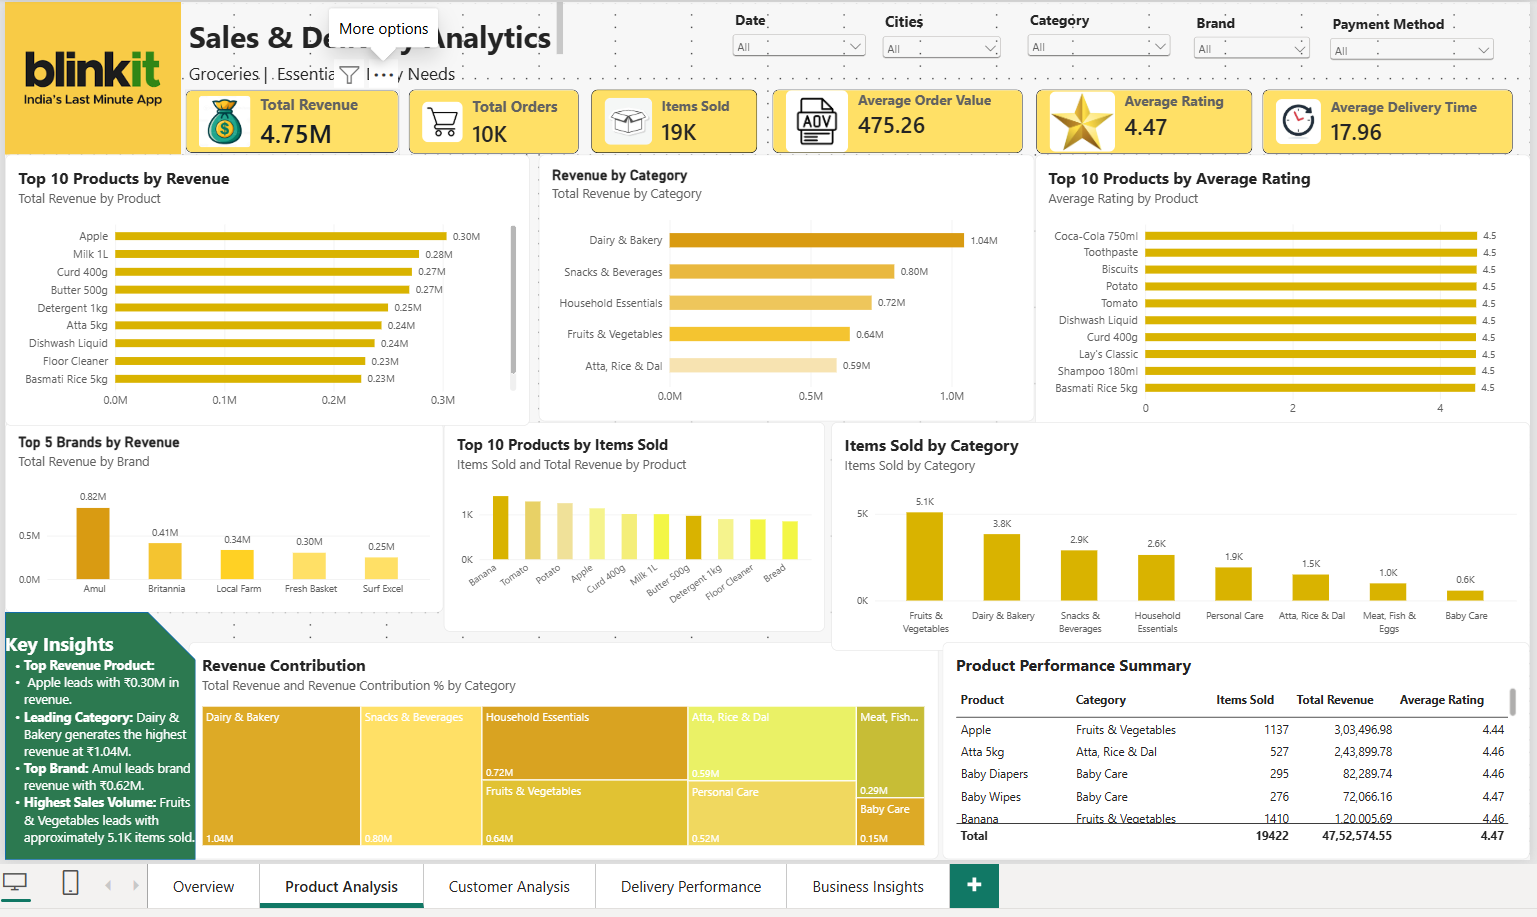

The dashboard page shown, as its layout file describes it:
{"tool":"powerbi","page":{"name":"Product Analysis","canvas":[1920,1080],"ordinal":1},"visuals":[{"type":"image","box":[0,0,221.7,192.1],"z":0},{"type":"textbox","box":[232.1,0,471.5,75.4],"z":4},{"type":"textbox","box":[372,192,804,138],"z":5},{"type":"textbox","box":[372,330,804,74],"z":6},{"type":"textbox","box":[232.1,75.4,818.8,35.5],"z":7},{"type":"slicer","fields":{"Values":["Calendar1.Date"]},"box":[910.5,10.5,177.4,69.4],"z":8},{"type":"slicer","fields":{"Values":["Cities.City"]},"box":[1100.6,10.5,158.7,68],"z":9},{"type":"slicer","fields":{"Values":["Orders.Category"]},"box":[1282,10.5,190.1,69.8],"z":10},{"type":"slicer","fields":{"Values":["Orders.Brand"]},"box":[1491.3,14,156.5,72.6],"z":11},{"type":"slicer","fields":{"Values":["Orders.Payment Method"]},"box":[1664,15.7,216.3,64.5],"z":12},{"type":"cardVisual","fields":{"Data":["Calendar1.Total Revenue"]},"box":[226.1,110.9,270.5,81.3],"z":13},{"type":"cardVisual","fields":{"Data":["Calendar1.Total Orders"]},"box":[508.5,110.9,214.3,81.3],"z":14},{"type":"cardVisual","fields":{"Data":["Calendar1.Items Sold"]},"box":[737.8,109.9,209.3,80.2],"z":15},{"type":"cardVisual","fields":{"Data":["Calendar1.Average Order Value"]},"box":[966.3,109.9,315.7,80.2],"z":16},{"type":"cardVisual","fields":{"Data":["Calendar1.Average Rating"]},"box":[1297.7,109.9,272.1,82],"z":17},{"type":"cardVisual","fields":{"Data":["Calendar1.Average Delivery Time"]},"box":[1583.7,109.9,315.7,82],"z":18},{"type":"clusteredBarChart","title":"Revenue by Category","fields":{"Category":["Orders.Category"],"Y":["Calendar1.Total Revenue"]},"box":[672,192,624,336],"z":21},{"type":"clusteredColumnChart","title":"Top 5 Brands by Revenue","fields":{"Category":["Orders.Brand"],"Y":["Calendar1.Total Revenue"]},"box":[0,552,552,240],"z":22},{"type":"clusteredColumnChart","title":"Top 10 Products by Items Sold","fields":{"Category":["Orders.Product"],"Y":["Calendar1.Items Sold"]},"box":[552,528,480,264],"z":30},{"type":"treemap","title":"Revenue Contribution","fields":{"Values":["Calendar1.Total Revenue"],"Group":["Orders.Category"]},"box":[232,805.8,943.6,273.8],"z":31},{"type":"clusteredBarChart","title":"Top 10 Products by Revenue","fields":{"Category":["Products.Product"],"Y":["Calendar1.Total Revenue"]},"box":[0,192,661,341.9],"z":34},{"type":"clusteredBarChart","title":"Top 10 Products by Average Rating","fields":{"Category":["Products.Product"],"Y":["Calendar1.Average Rating"]},"box":[1299.4,198.8,620.9,341.9],"z":35},{"type":"clusteredColumnChart","title":"Items Sold by Category","fields":{"Y":["Calendar1.Items Sold"],"Category":["Orders.Category"]},"box":[1032,552,888,264],"z":36},{"type":"tableEx","title":"Product Performance Summary","fields":{"Values":["Orders.Product","Orders.Category","Calendar1.Items Sold","Calendar1.Total Revenue","Calendar1.Average Rating"]},"box":[1180.8,805.8,739.5,273.8],"z":37}]}

Visuals, with their boxes on the page's 1920x1080 design canvas (x1, y1, x2, y2). These are canvas units, not pixel positions in the 1537x917 screenshot, which may show the page scaled, cropped or inside an application window:
image: 0 0 222 192
textbox: 232 0 704 75
textbox: 372 192 1176 330
textbox: 372 330 1176 404
textbox: 232 75 1051 111
slicer - Calendar1.Date: 910 10 1088 80
slicer - Cities.City: 1101 10 1259 78
slicer - Orders.Category: 1282 10 1472 80
slicer - Orders.Brand: 1491 14 1648 87
slicer - Orders.Payment Method: 1664 16 1880 80
cardVisual - Calendar1.Total Revenue: 226 111 497 192
cardVisual - Calendar1.Total Orders: 508 111 723 192
cardVisual - Calendar1.Items Sold: 738 110 947 190
cardVisual - Calendar1.Average Order Value: 966 110 1282 190
cardVisual - Calendar1.Average Rating: 1298 110 1570 192
cardVisual - Calendar1.Average Delivery Time: 1584 110 1899 192
"Revenue by Category" clusteredBarChart: 672 192 1296 528
"Top 5 Brands by Revenue" clusteredColumnChart: 0 552 552 792
"Top 10 Products by Items Sold" clusteredColumnChart: 552 528 1032 792
"Revenue Contribution" treemap: 232 806 1176 1080
"Top 10 Products by Revenue" clusteredBarChart: 0 192 661 534
"Top 10 Products by Average Rating" clusteredBarChart: 1299 199 1920 541
"Items Sold by Category" clusteredColumnChart: 1032 552 1920 816
"Product Performance Summary" tableEx: 1181 806 1920 1080
